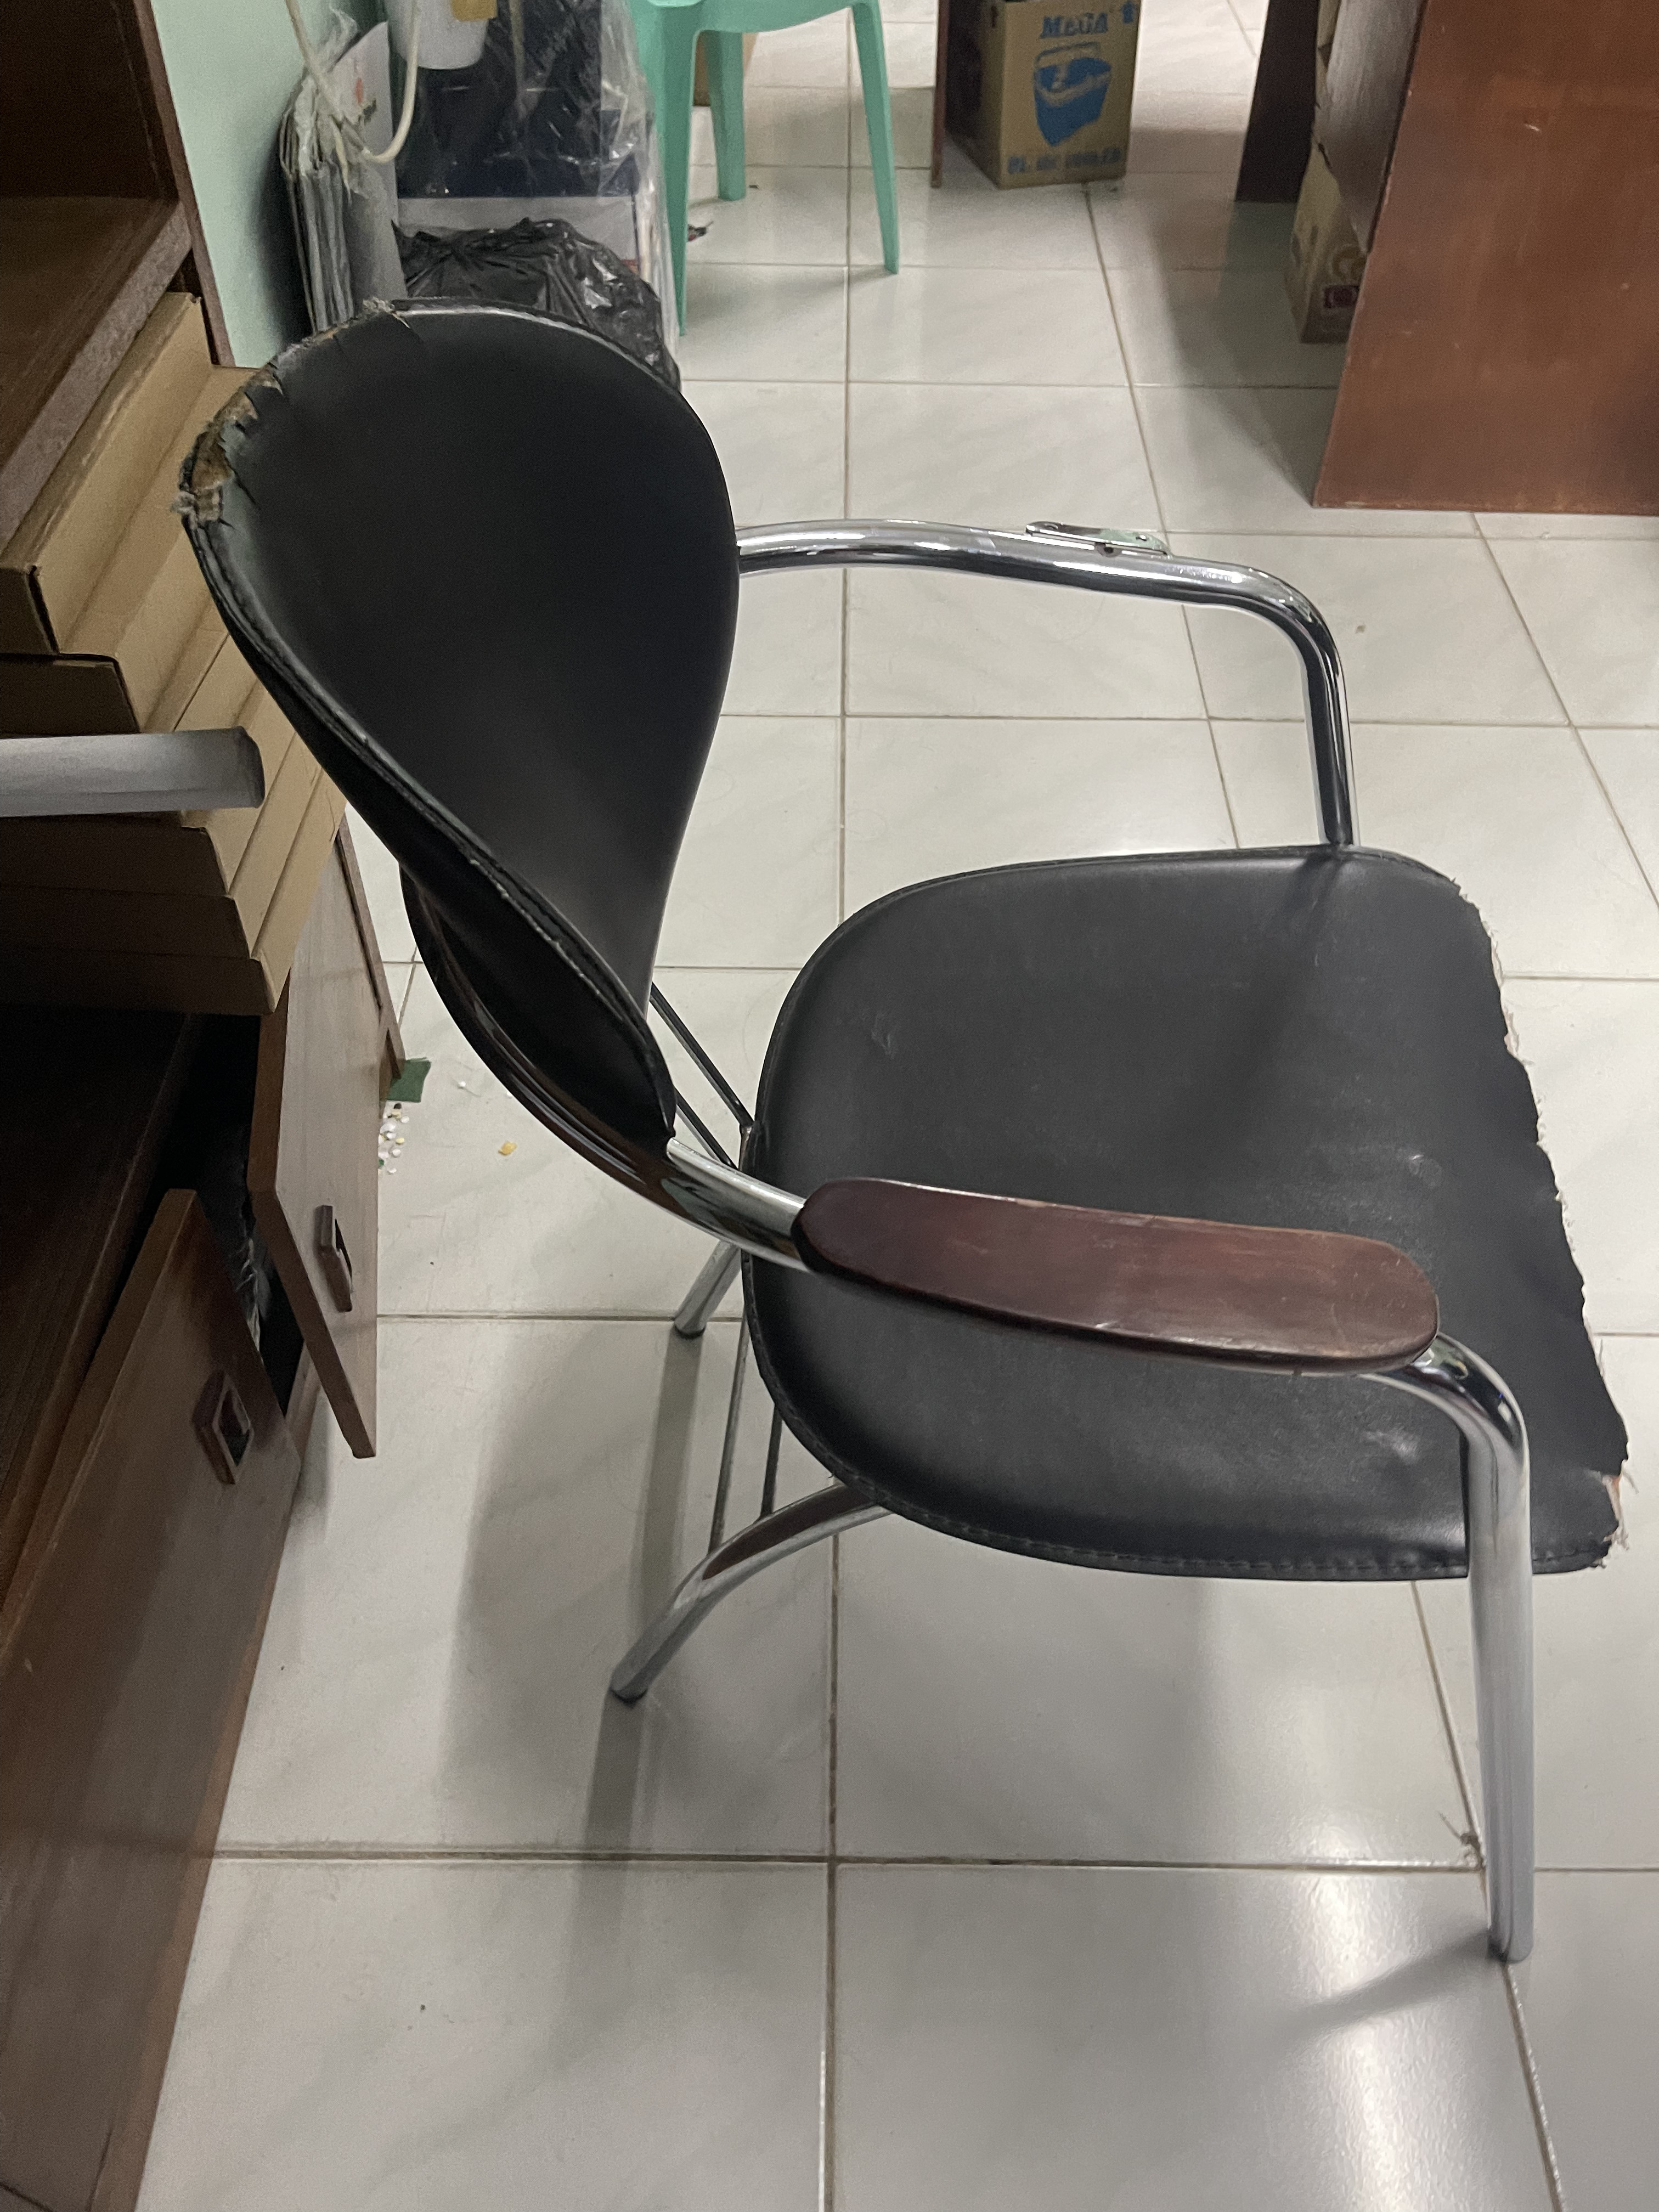chair1: (173, 298, 1633, 1968)
